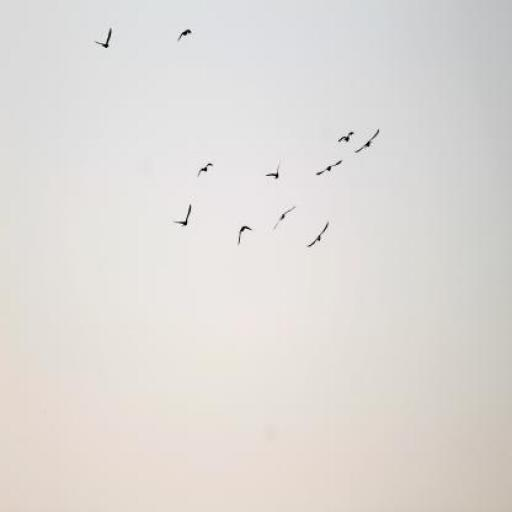bird: (274, 208, 296, 230), (357, 132, 378, 155), (309, 224, 329, 247), (175, 207, 193, 229), (318, 161, 344, 176), (96, 30, 113, 49), (238, 225, 254, 244), (197, 162, 214, 178), (264, 165, 280, 180), (177, 28, 192, 42), (338, 132, 357, 142)
